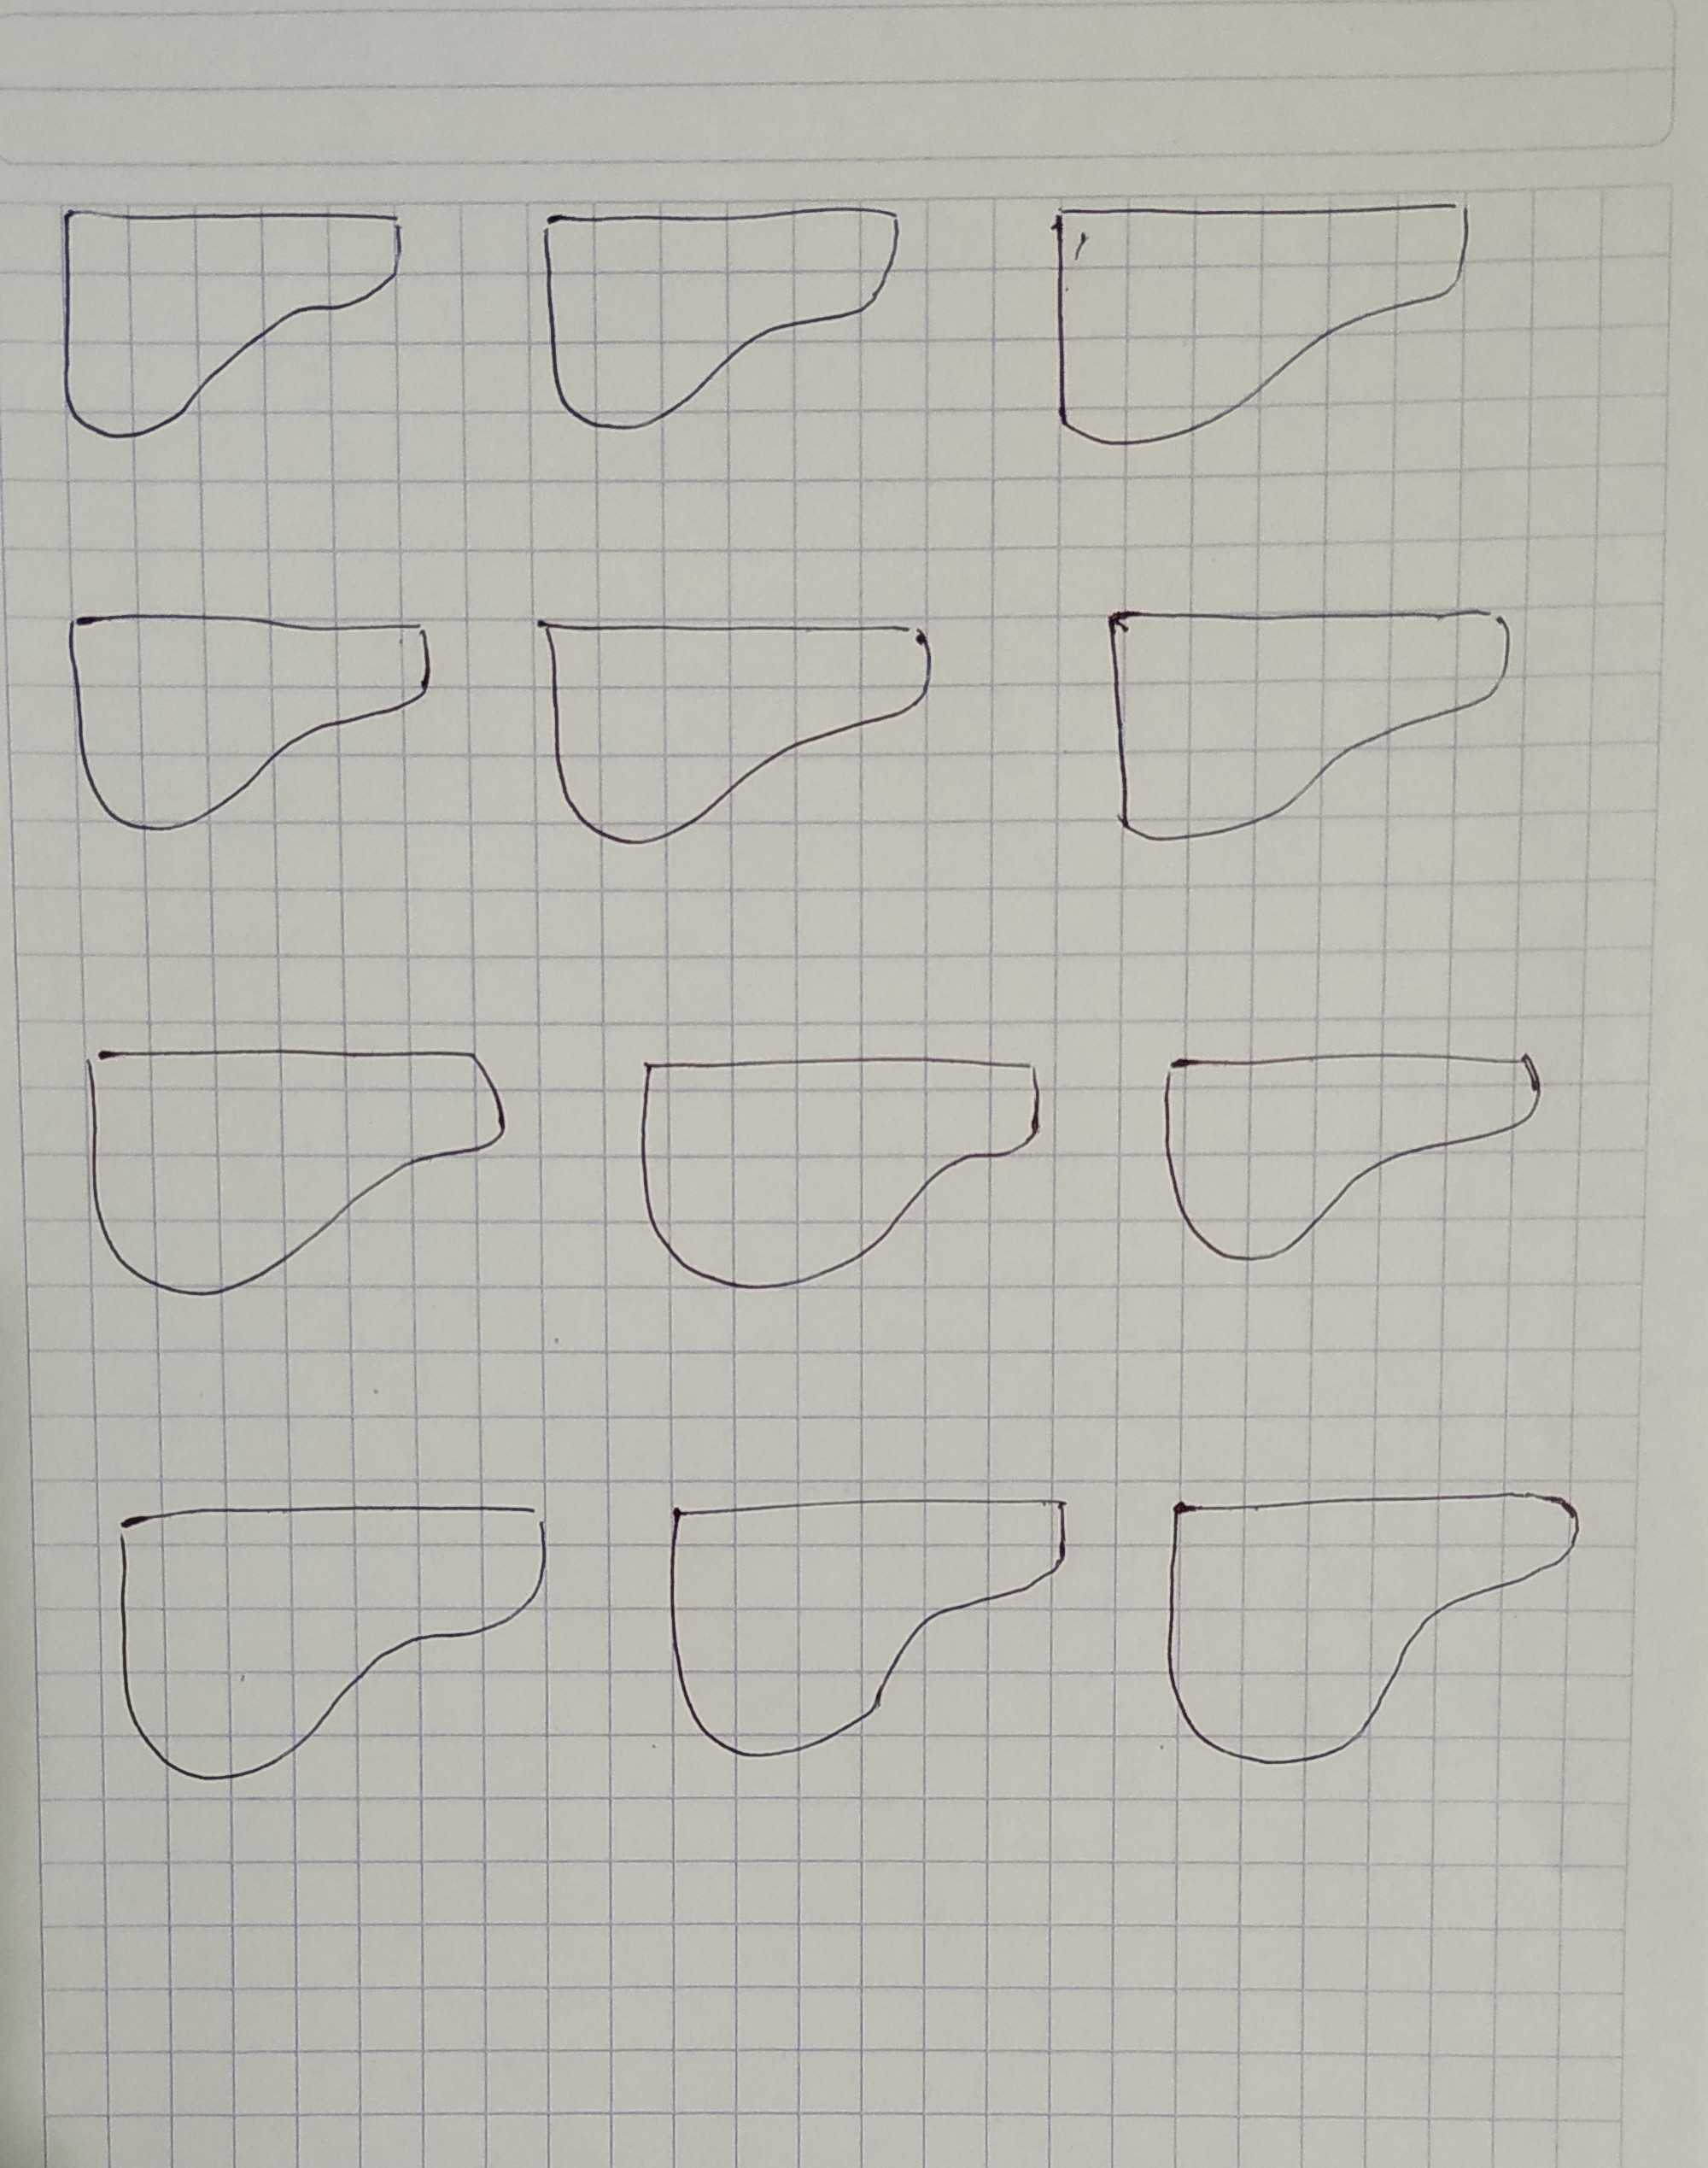print: (1138, 1464, 1597, 1848), (635, 1454, 1099, 1832), (97, 1473, 573, 1813), (1073, 560, 1562, 873), (514, 544, 960, 885), (63, 991, 521, 1318), (1033, 165, 1497, 487), (609, 1000, 1073, 1316), (514, 165, 934, 477), (55, 567, 461, 882), (1131, 1010, 1578, 1279), (44, 181, 422, 473)
